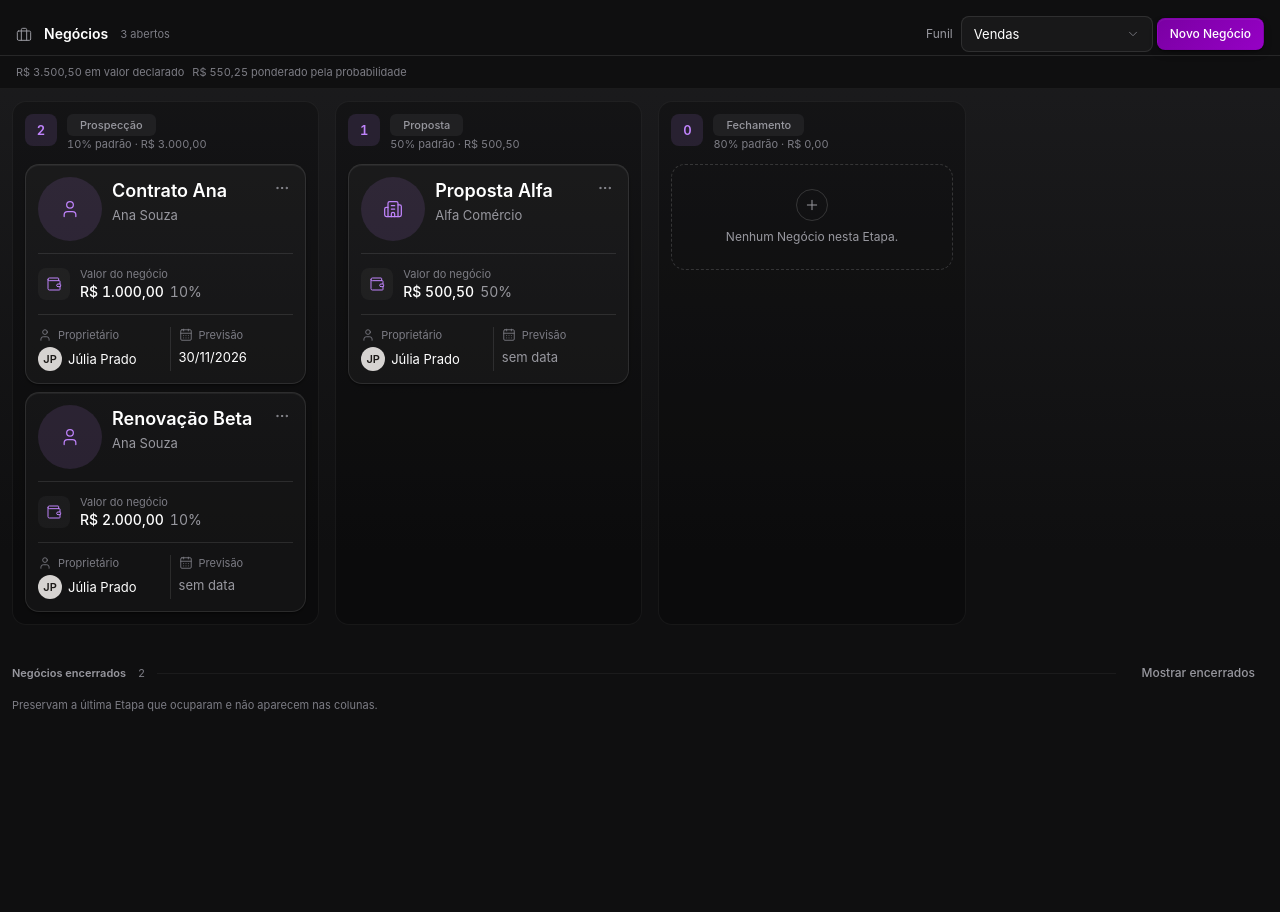
Test: QuadroDoFunil — as colunas e os cartões › (a) abre no Funil padrão, com uma coluna por Etapa na ordem (inclusive a vazia) e os cartões abertos na Etapa deles; os encerrados ficam na faixa
The width and height of the screenshot is (1280, 912).
Expected: the text "Contrato Ana" is shown, [112,180,227,201]
Expected: the dropdown named "Funil" reads "Vendas", [961,16,1153,52]
Click the button "Mostrar encerrados".
click(1198, 673)  # box [1128,657,1268,689]
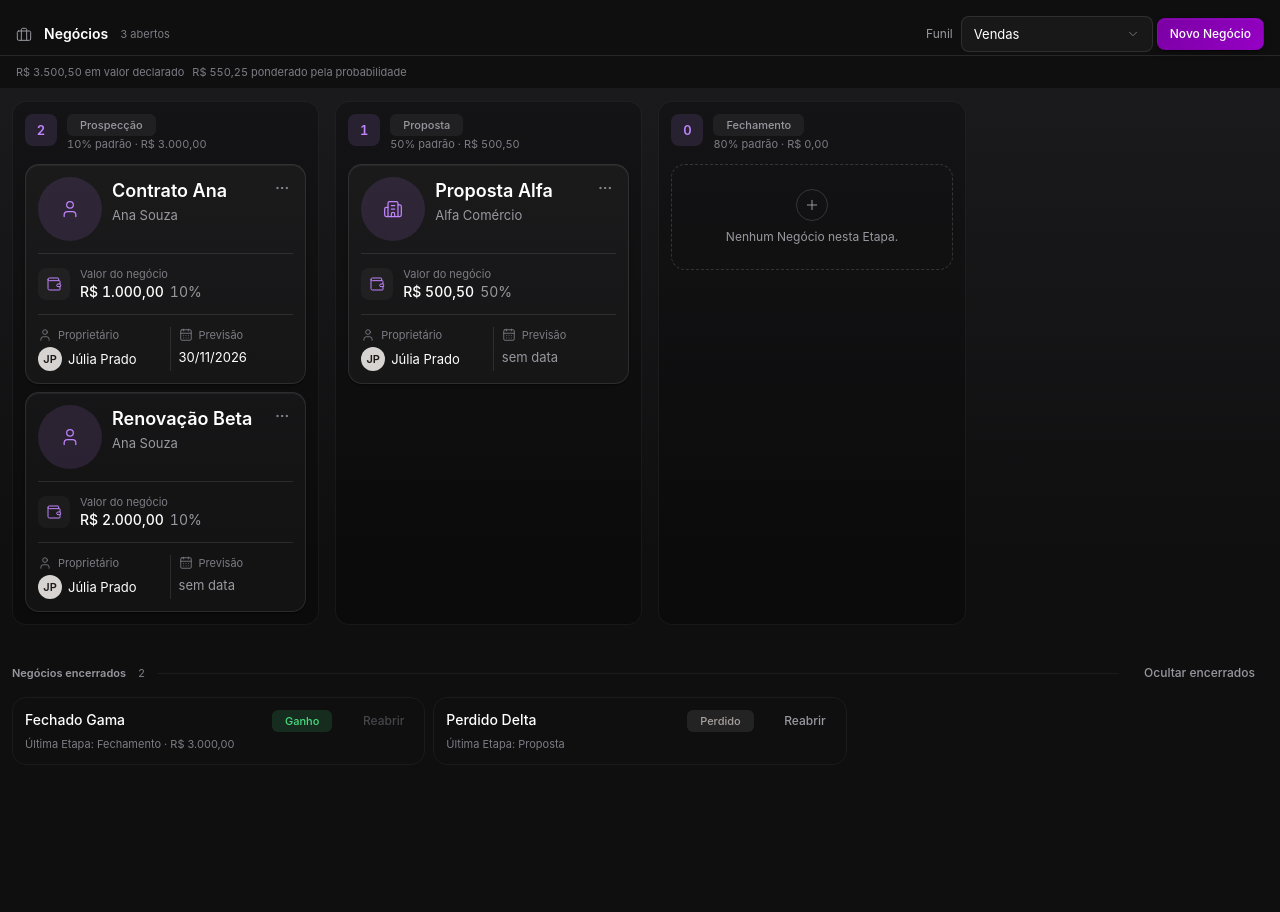
Expected: the text "Fechado Gama" is shown, [25,710,125,730]
Expected: the text "Perdido Delta" is shown, [446,710,536,730]
Expected: the text "Ganho" is shown, [272,710,332,732]
